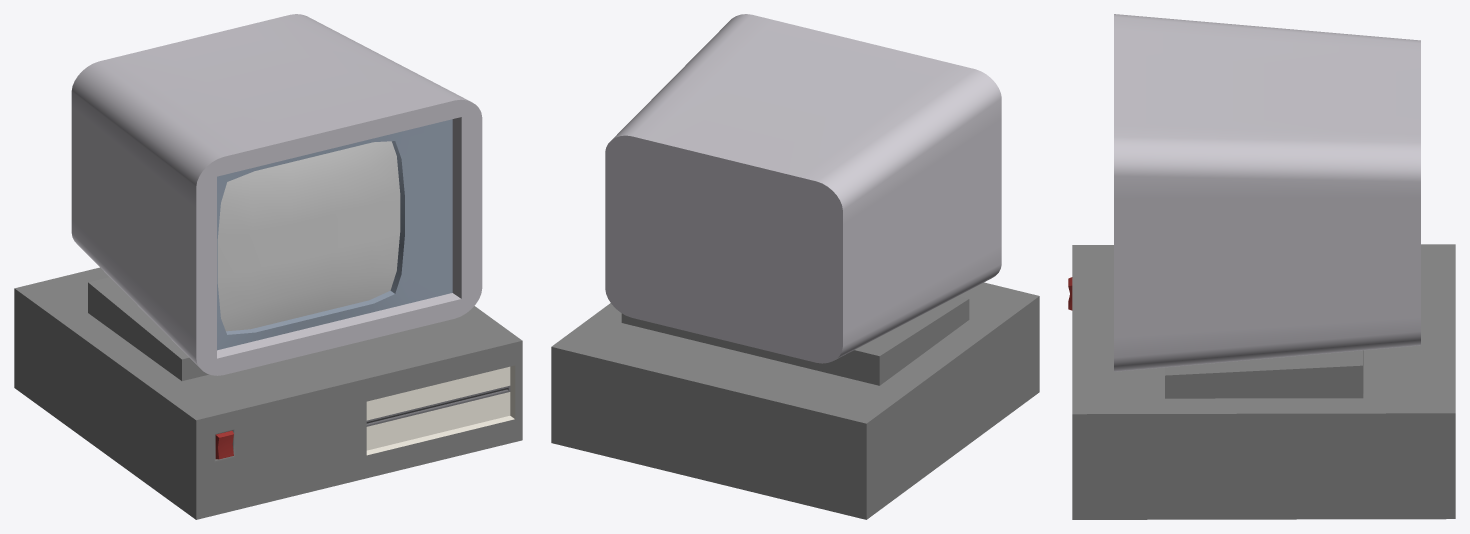
The model's file is Bilgisayar.fbx.
The picture shows the model from 3 angles, left to right: view 1: azimuth 30°, elevation 25°; view 2: azimuth 150°, elevation 25°; view 3: azimuth 270°, elevation 25°; orthographic projection. The views are drawn at different scales.
Parts seen in each view (by area): view 1: Bilgisayar; view 2: Bilgisayar; view 3: Bilgisayar.
Part boxes in pixels (left/top/right/bottom): Bilgisayar: left=14, top=14, right=522, bottom=519; Bilgisayar: left=551, top=14, right=1039, bottom=519; Bilgisayar: left=1068, top=14, right=1455, bottom=519.
Size of the model in its own units: 162 by 159 by 156.
